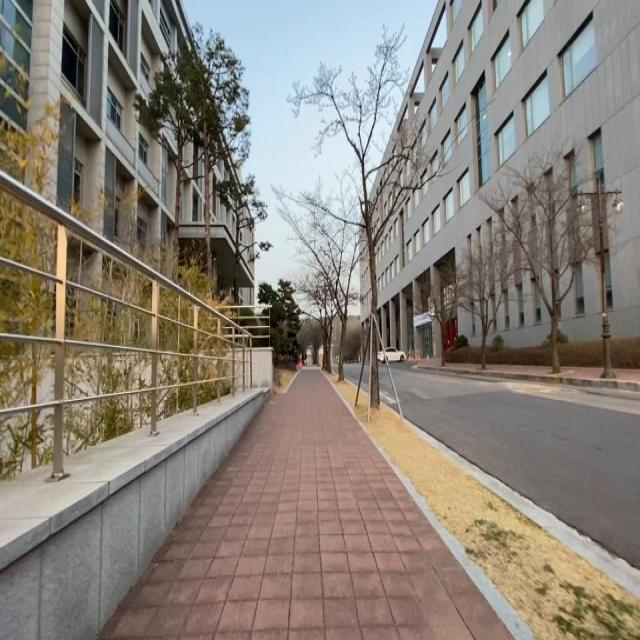sidewalk: (98, 366, 516, 640), (487, 364, 603, 379), (419, 358, 482, 370), (613, 369, 640, 383)
